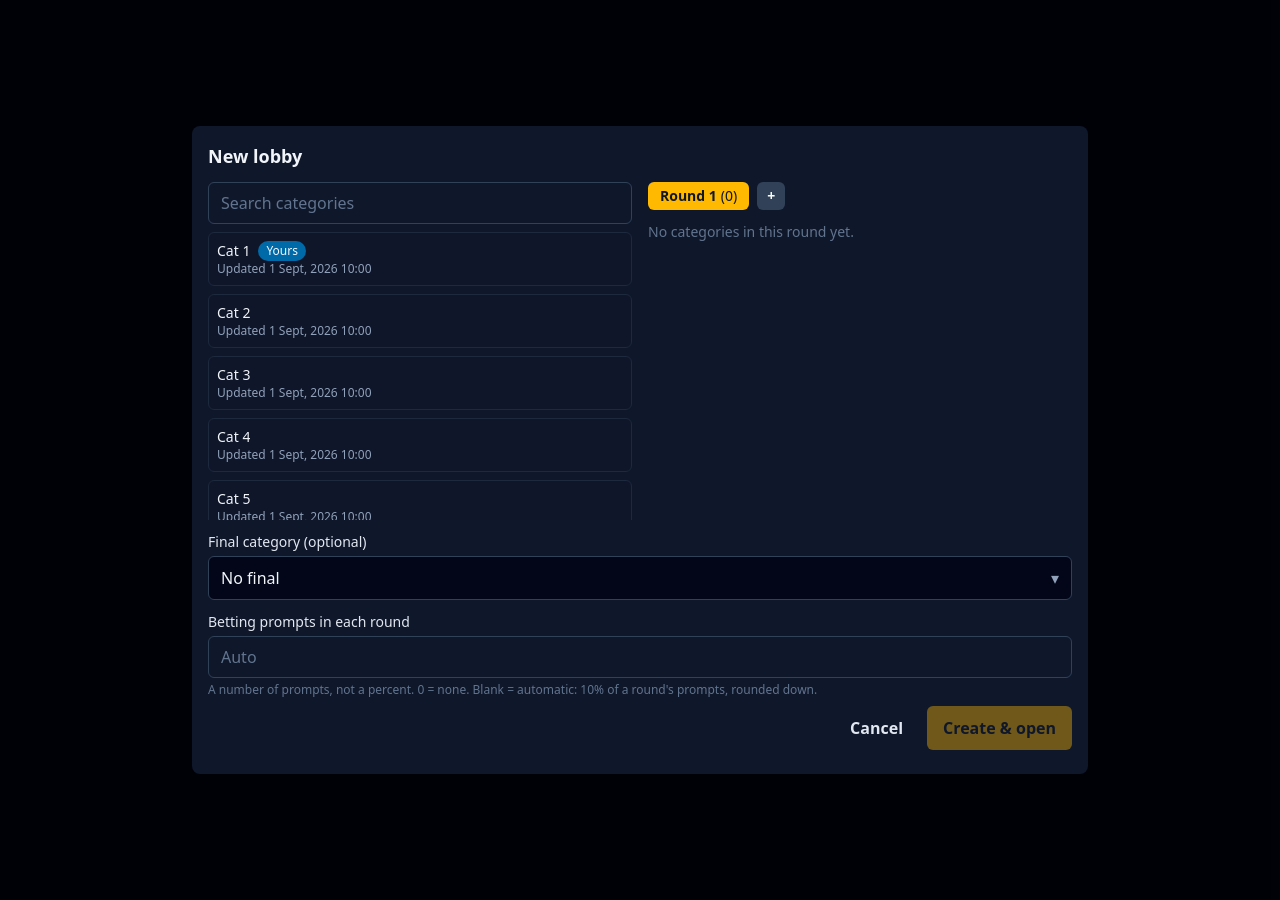
Test: CreateLobbyModal rounds editor › disables create for an out-of-range betting count
The image size is (1280, 900).
Click the button with aria-label "Add Cat 1 to round 1" at (234, 250), box [208,232,632,286]
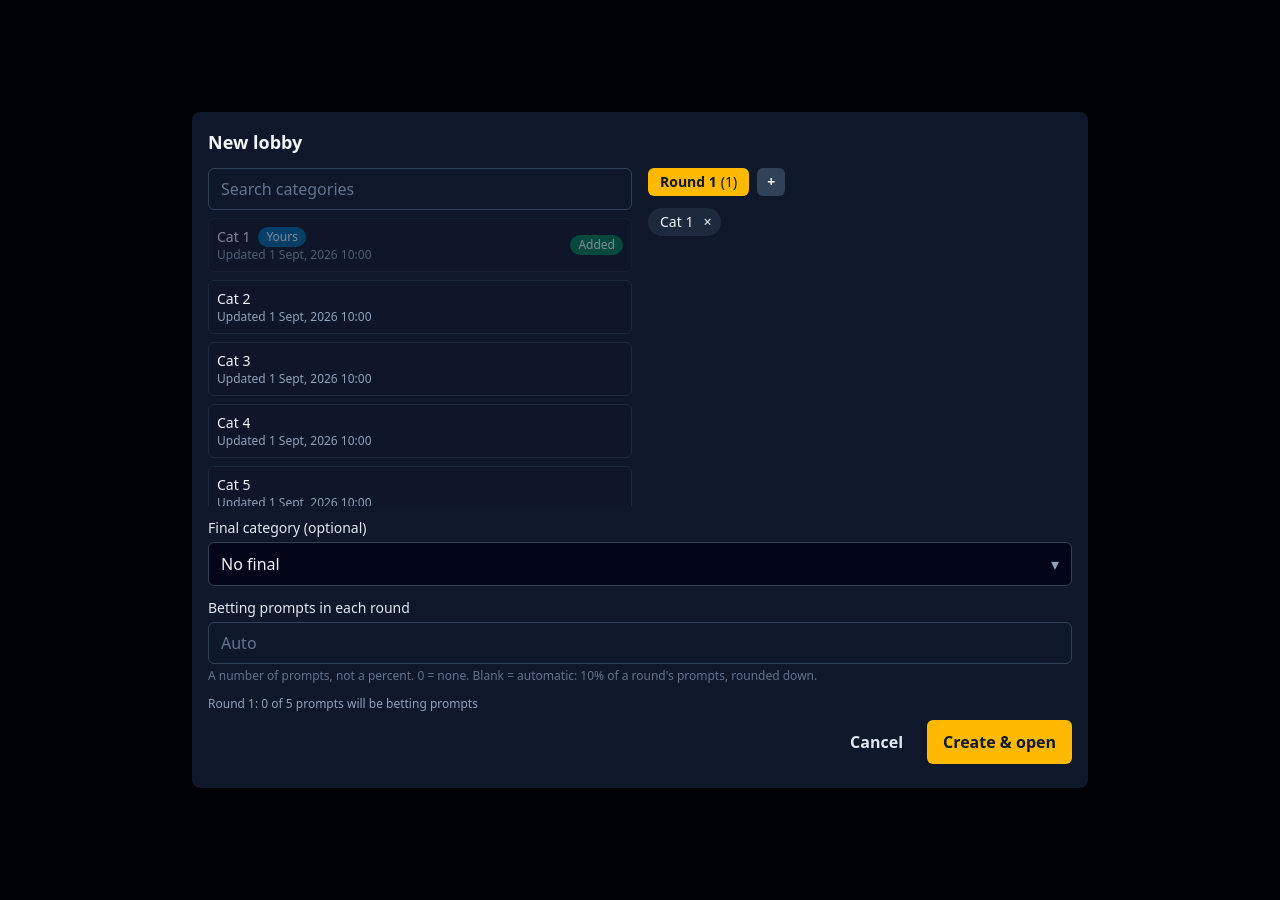
Type "26" into the number field labelled "Betting prompts in each round" at (640, 643), box [208,622,1072,664]
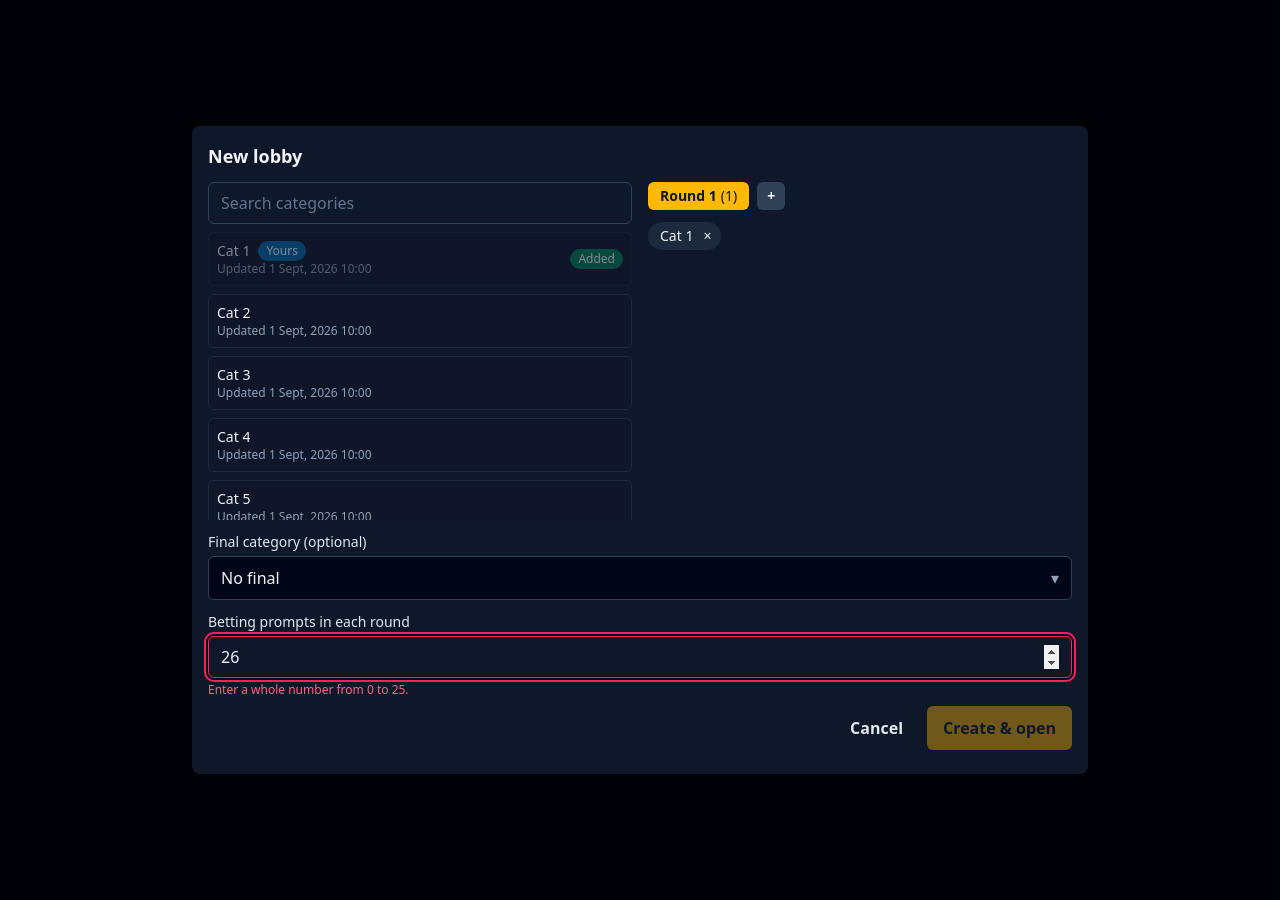
Now the button "Create & open" is disabled, box [927,706,1072,750]
